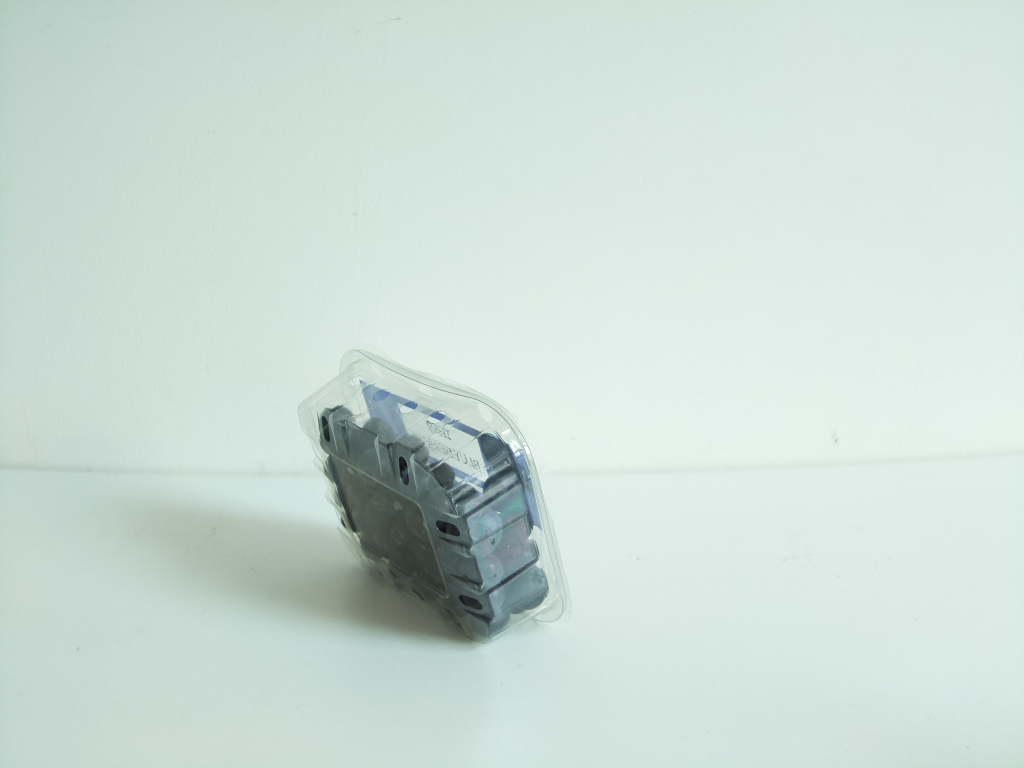soft-fruit: (303, 347, 577, 640)
